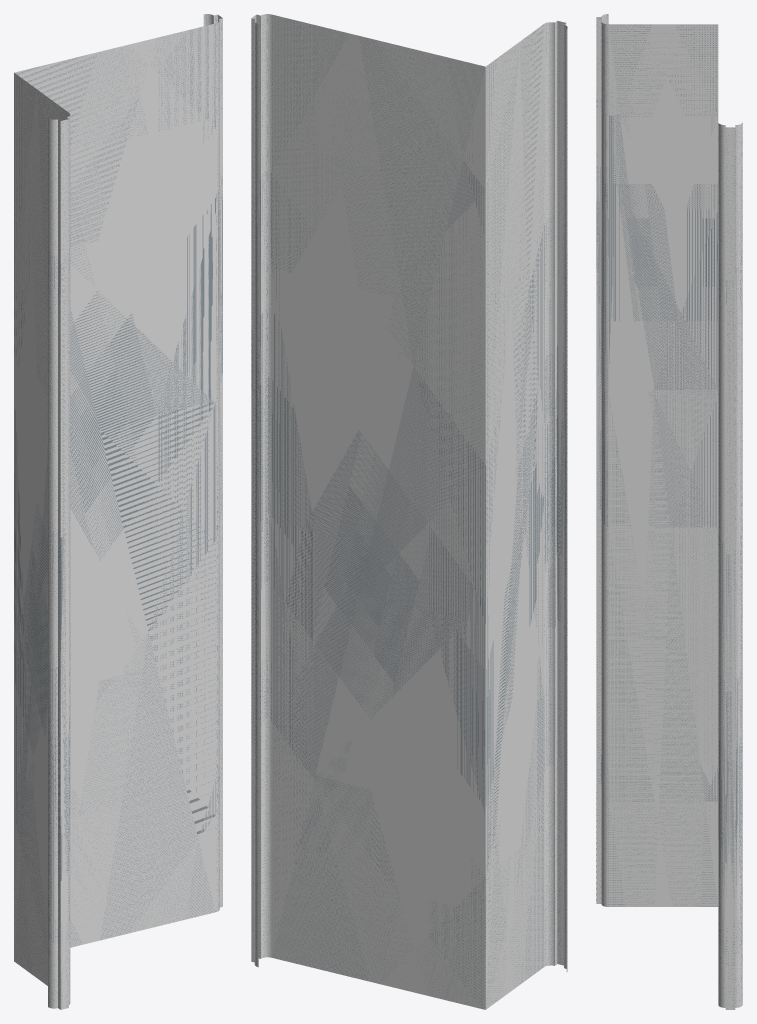
Rendered from PW_CornerFixElem_os_T1_060x110x010x400.dae.
3 views of the same model, side by side, from view 1: azimuth 30°, elevation 25°; view 2: azimuth 150°, elevation 25°; view 3: azimuth 270°, elevation 25° (orthographic). The views are drawn at different scales.
Visible parts, largest first — view 1: group_0; view 2: group_0; view 3: group_0.
Part boxes in pixels (bbox=[...]): group_0: bbox=[14, 14, 222, 1009]; group_0: bbox=[251, 14, 567, 1009]; group_0: bbox=[596, 14, 742, 1009].
Bounding box in the file's own units: 43.31 × 23.62 × 157.
